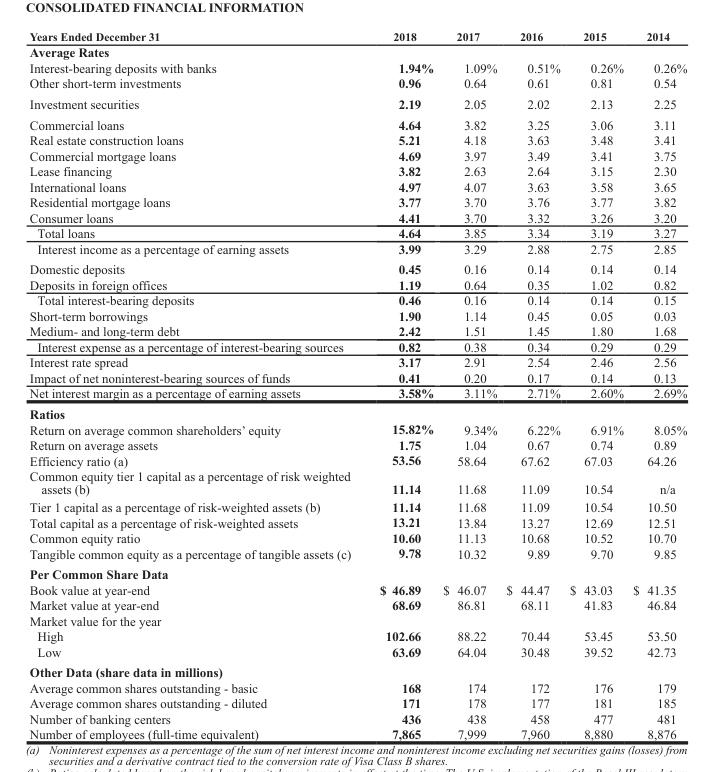table: (28, 29, 686, 741)
table column: (28, 29, 364, 741), (364, 29, 437, 741), (437, 29, 501, 741), (501, 29, 564, 741), (564, 29, 627, 741), (627, 29, 686, 741)
table column header: (28, 29, 686, 43)
table projected row header: (28, 403, 686, 421), (28, 563, 686, 581), (28, 661, 686, 679), (28, 43, 686, 59), (28, 612, 686, 628)
table row: (28, 468, 686, 497), (28, 93, 686, 113), (28, 75, 686, 93), (28, 113, 686, 131), (28, 240, 686, 258), (28, 258, 686, 276), (28, 385, 686, 403), (28, 403, 686, 421), (28, 545, 686, 563), (28, 563, 686, 581), (28, 643, 686, 661), (28, 661, 686, 679), (28, 497, 686, 514), (28, 43, 686, 59), (28, 59, 686, 75), (28, 131, 686, 147), (28, 162, 686, 178), (28, 178, 686, 194), (28, 209, 686, 225), (28, 276, 686, 292), (28, 307, 686, 323), (28, 338, 686, 354), (28, 369, 686, 385), (28, 436, 686, 452), (28, 452, 686, 468), (28, 529, 686, 545), (28, 581, 686, 597), (28, 612, 686, 628), (28, 679, 686, 695), (28, 710, 686, 726), (28, 147, 686, 162), (28, 194, 686, 209), (28, 225, 686, 240), (28, 292, 686, 307), (28, 323, 686, 338), (28, 354, 686, 369), (28, 421, 686, 436), (28, 514, 686, 529), (28, 597, 686, 612), (28, 628, 686, 643), (28, 695, 686, 710), (28, 726, 686, 741), (28, 29, 686, 43)
